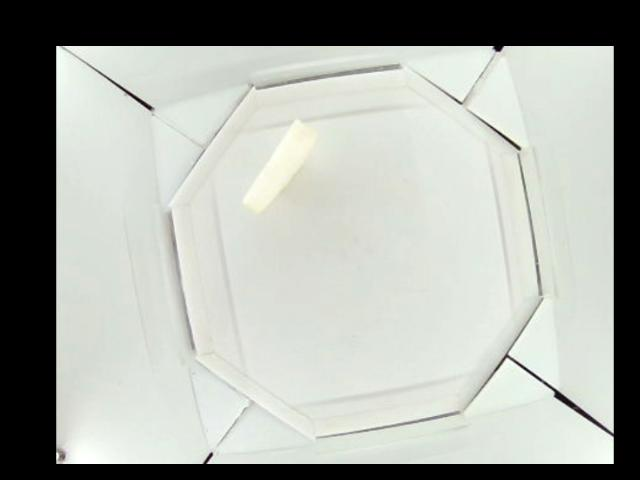Mooli: (240, 117, 318, 215)
